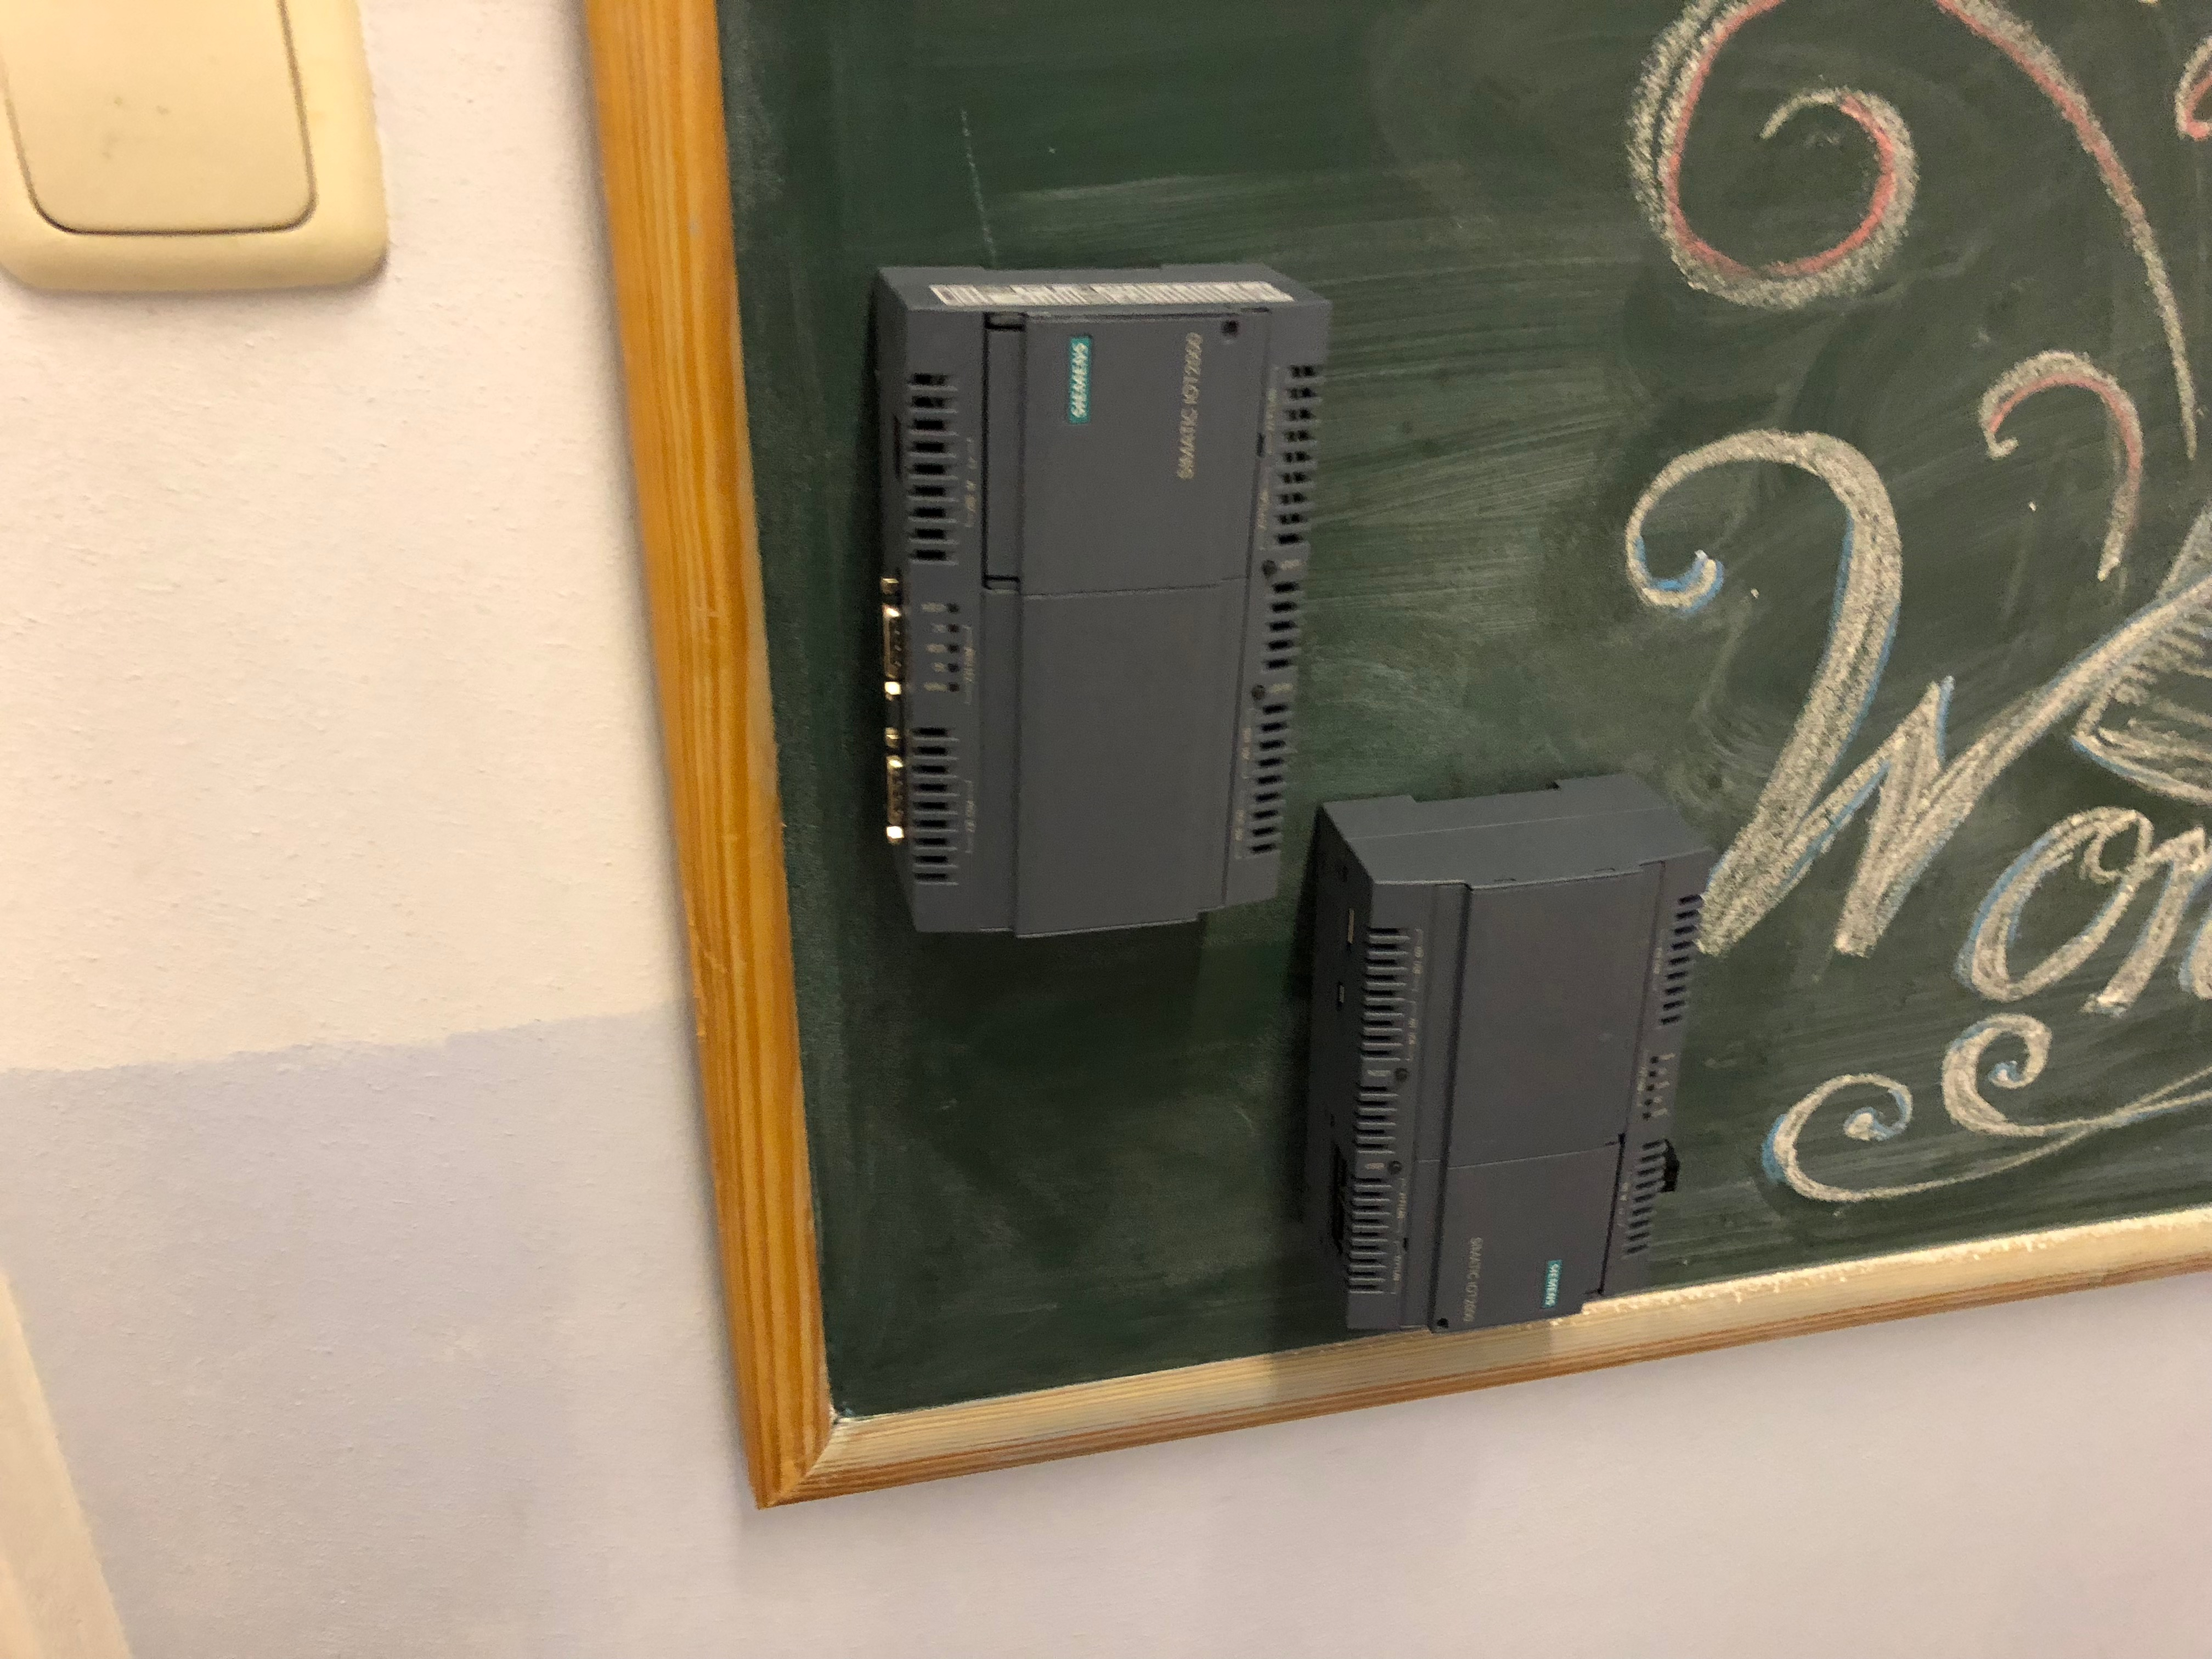device: (874, 265, 1332, 939), (1306, 774, 1714, 1335)
